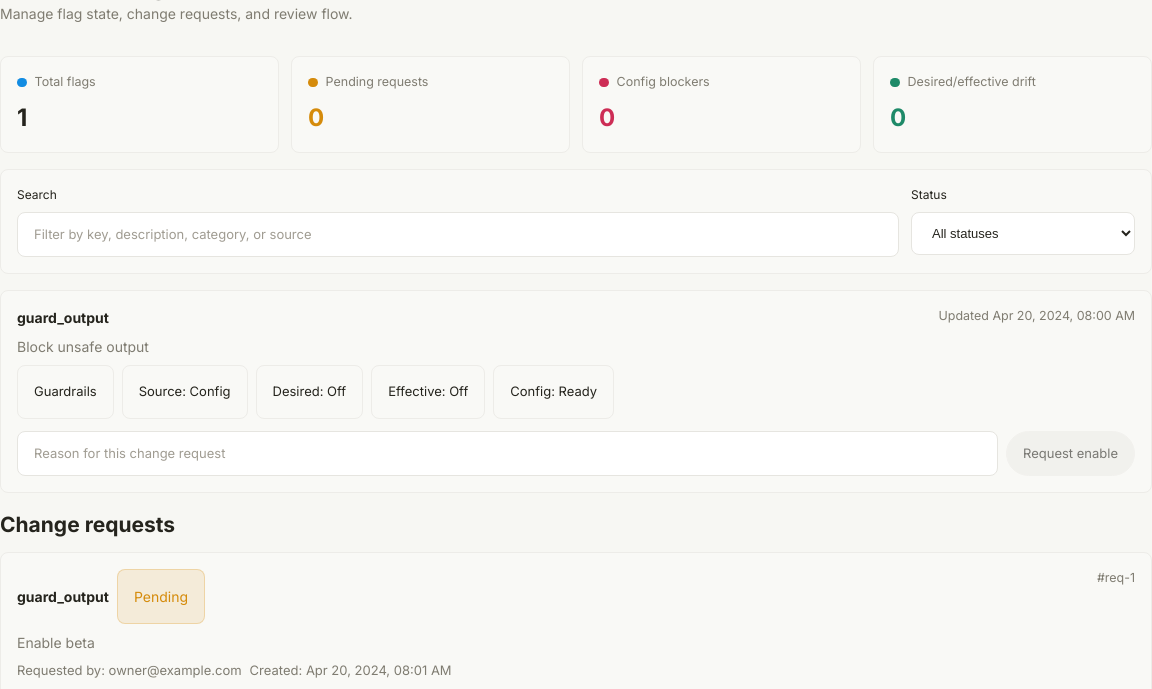
it: admin surfaces › submits and reviews feature-flag change requests
This screenshot has width=1152, height=689.
Expected: the text "guard_output" in the row of "Updated Apr 20, 2024, 08:00 AM" is shown, x1=17 y1=309 x2=109 y2=326
Type "Rollout beta" into the field with placeholder "Reason for this change request" at (508, 453), box x1=17 y1=431 x2=998 y2=476
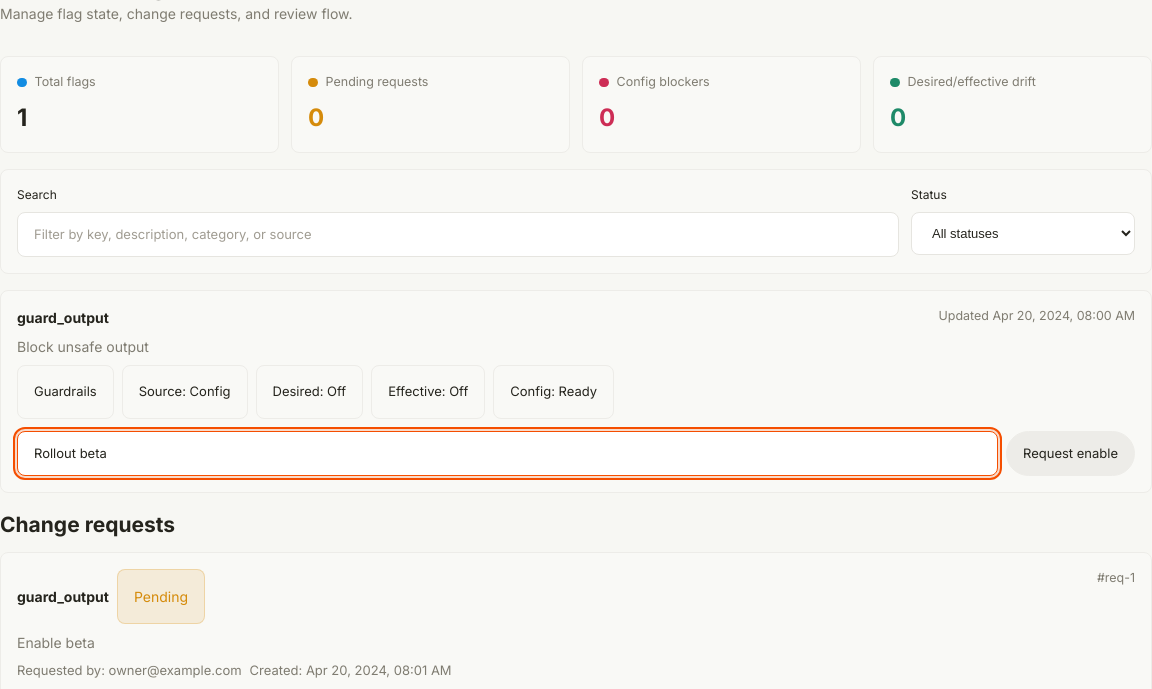
Click the button "Request enable" at (1070, 453), box x1=1006 y1=431 x2=1135 y2=476
(page scrolled)
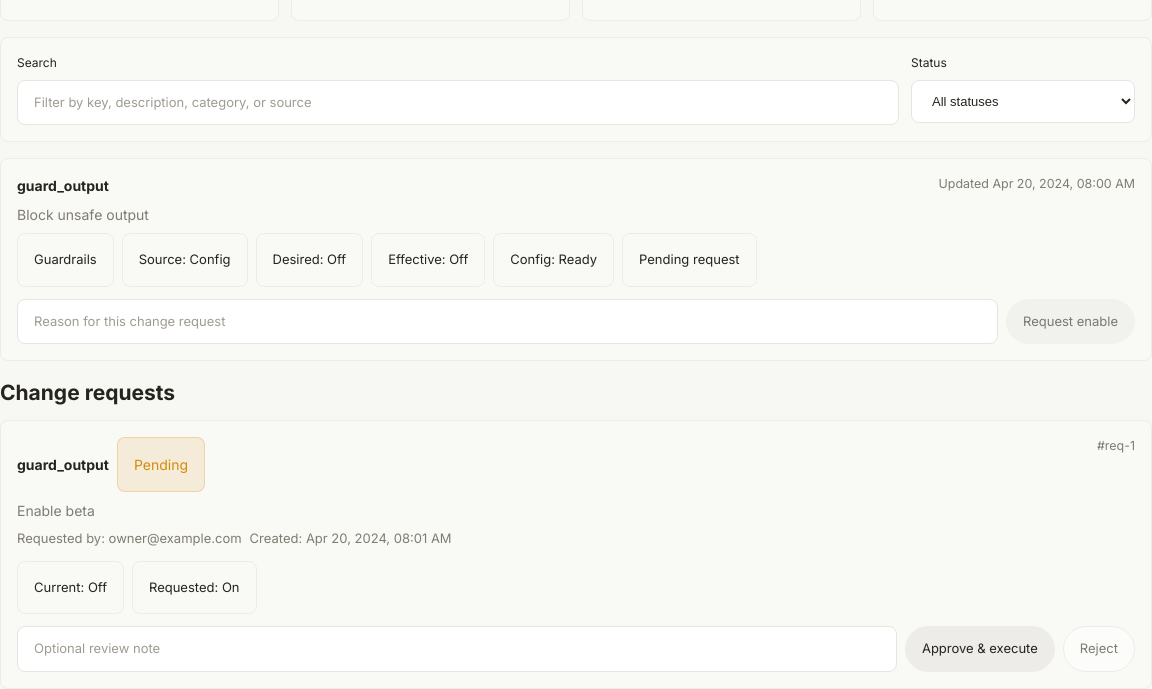
Expected: the text "Pending request" is shown, x1=622 y1=233 x2=757 y2=287
Expected: the button "Request enable" is disabled, x1=1006 y1=299 x2=1135 y2=344
Expected: the field with placeholder "Reason for this change request" is empty, x1=17 y1=299 x2=998 y2=344
Type "Looks good" into the field with placeholder "Optional review note" at (457, 649), box x1=17 y1=626 x2=897 y2=672
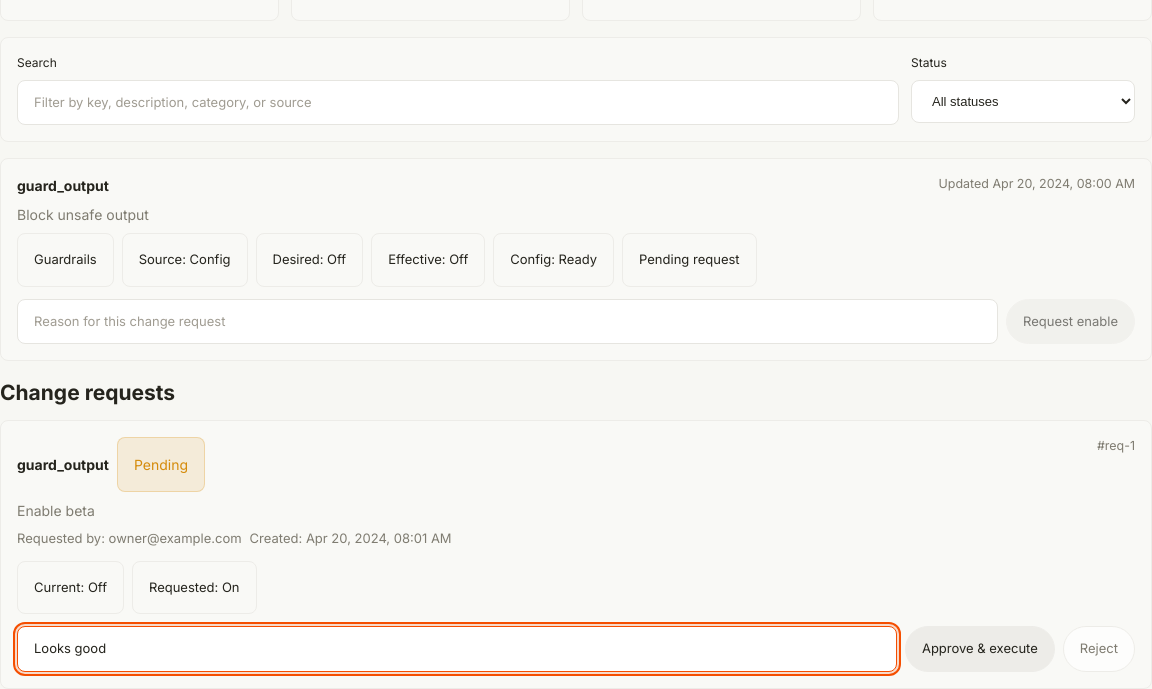
Click the button "Approve & execute" at (980, 649), box x1=905 y1=626 x2=1055 y2=672
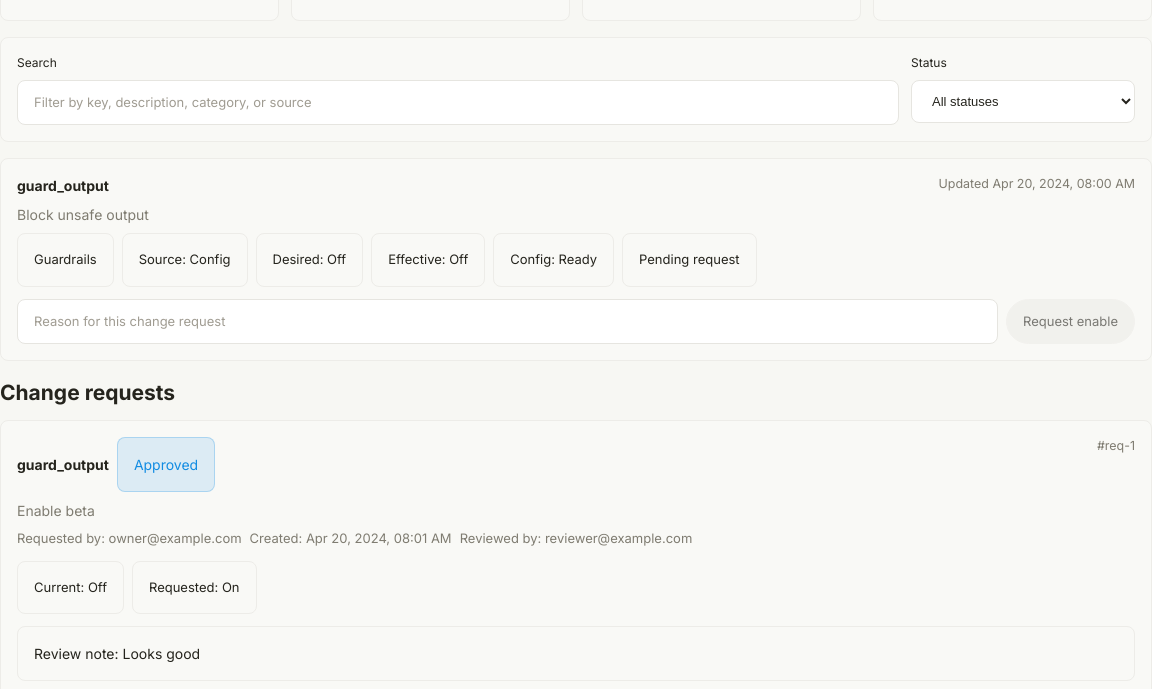
Expected: the field with placeholder "Optional review note" is not shown
Expected: the text "Review note: Looks good" is shown, x1=17 y1=626 x2=1135 y2=681
Expected: the button "Approve & execute" is gone
